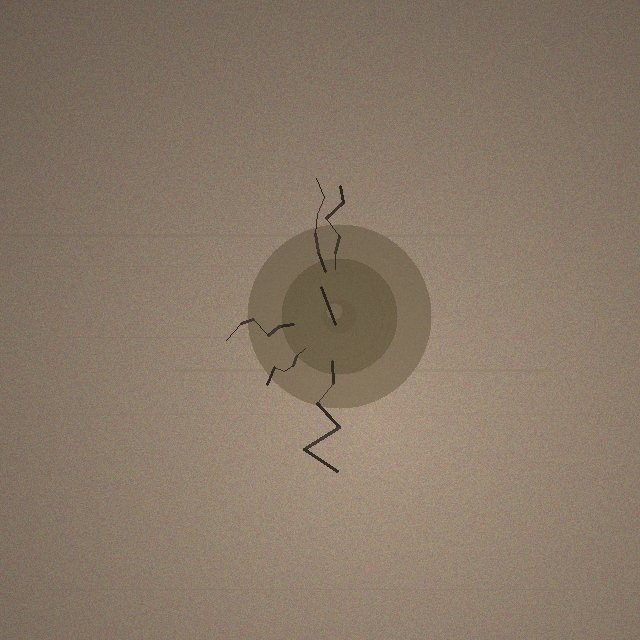crack: (247, 224, 431, 408)
